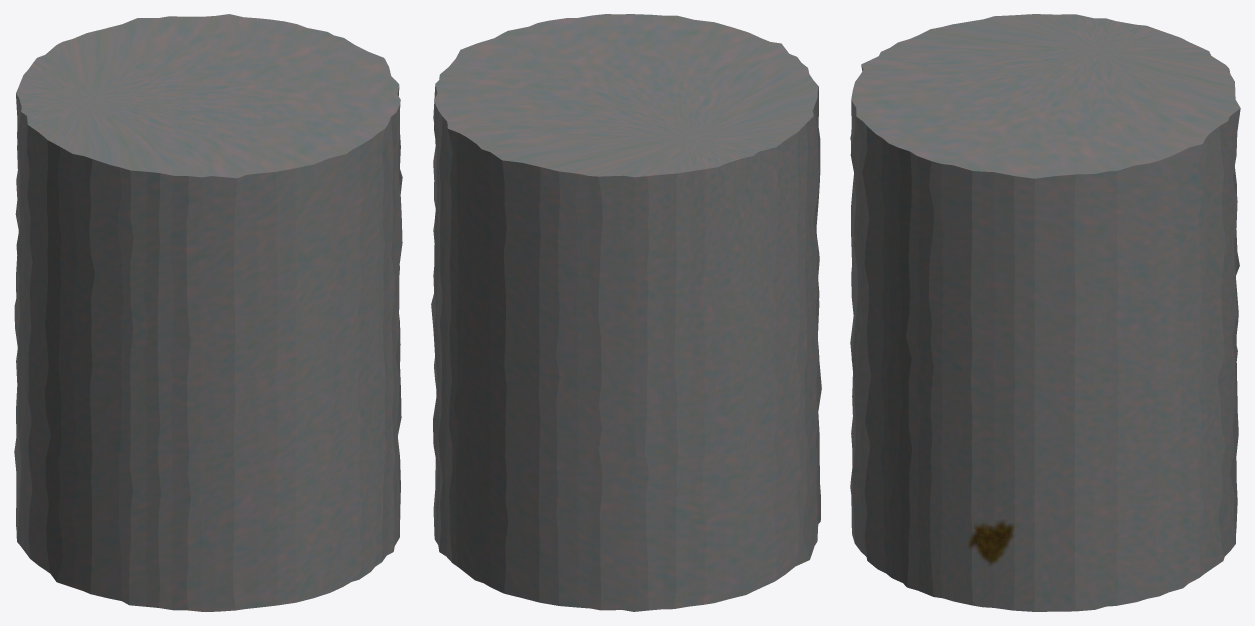
Rendered from barrel_61.dae.
3 renders of one model, left to right at view 1: azimuth 30°, elevation 25°; view 2: azimuth 150°, elevation 25°; view 3: azimuth 270°, elevation 25°, orthographic.
Parts seen in each view (by area): view 1: Cylinder; view 2: Cylinder; view 3: Cylinder.
Boxes of the visible parts, bbox=[...] form: Cylinder: bbox=[14, 14, 402, 611]; Cylinder: bbox=[431, 14, 821, 611]; Cylinder: bbox=[850, 14, 1240, 611].
Size of the model in its own units: 0.8184 by 0.8127 by 1.
1 material, 1 textured.
